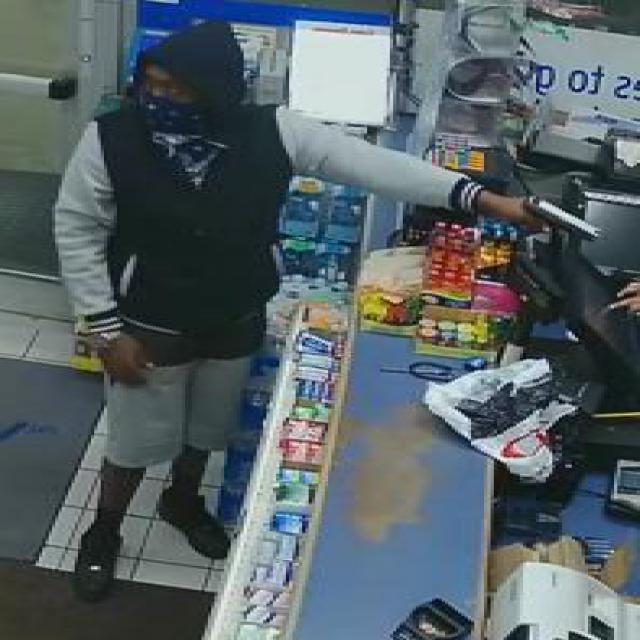Gun: (500, 190, 608, 237)
